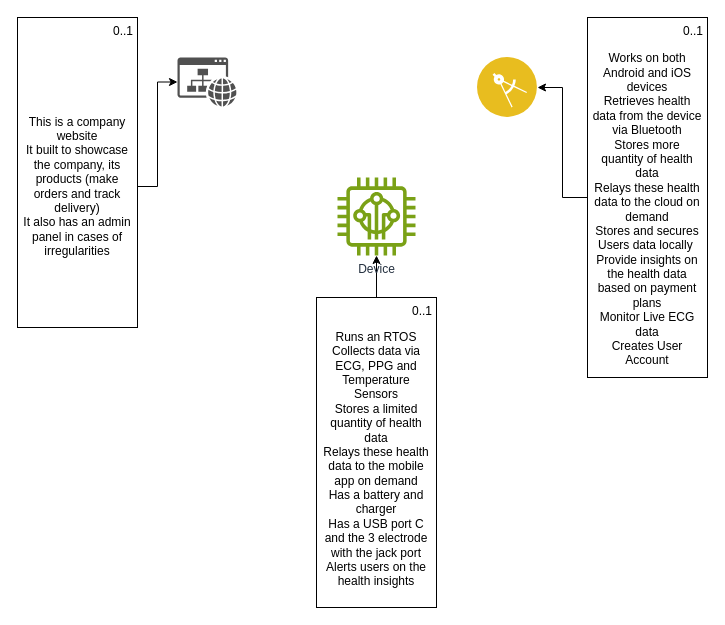
Some shapes in this 725 by 625 pixel diagram are drawn without their labels. Here are the shapes that lost their labels. From the top down, the centre of each, then its label:
At pixel 206 81: "Website".
At pixel 507 87: "Mobile App".
